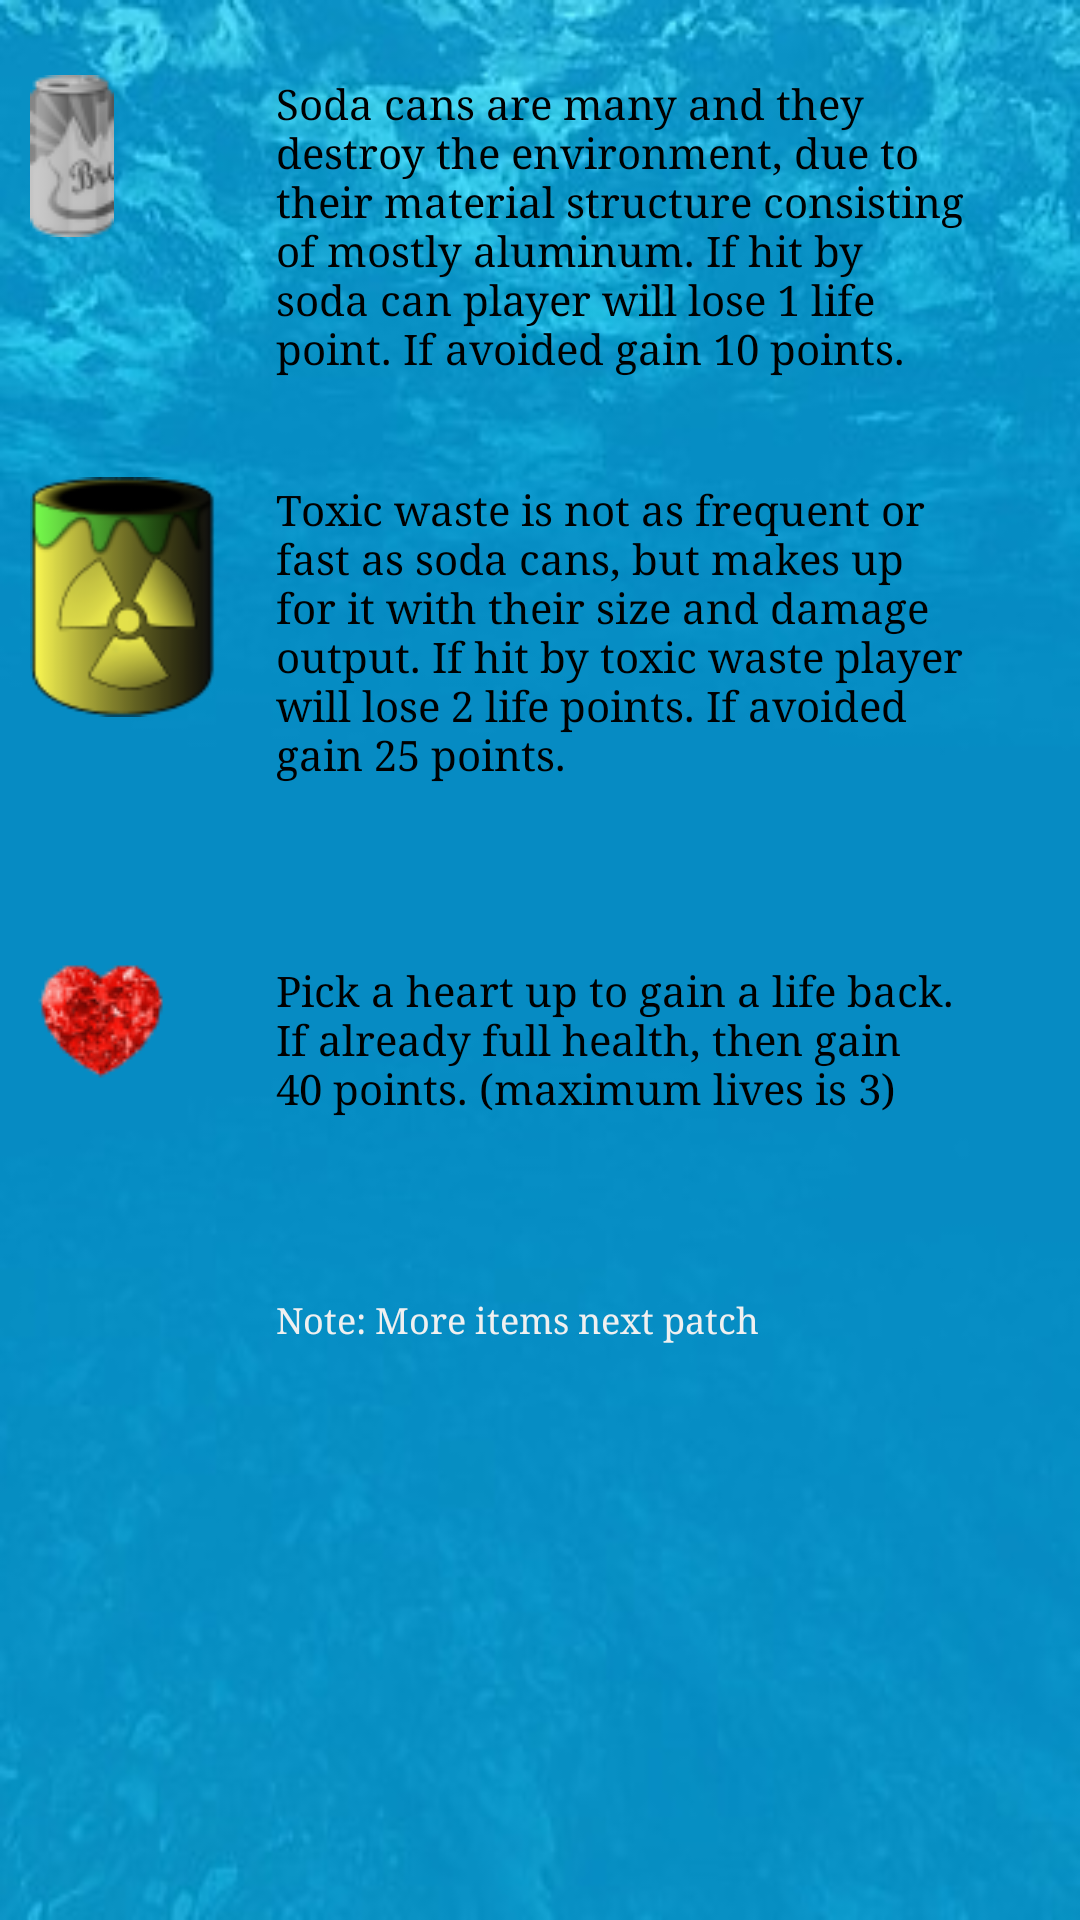

Where icons sit on this 1080 × 1920 app screen, as (x1, y1, x2, y2):
lifepoint: (39, 965, 163, 1078)
Picture of sodacan item: (30, 75, 114, 237)
